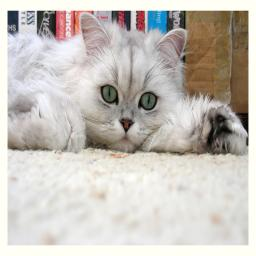catnose: (120, 117, 134, 132)
